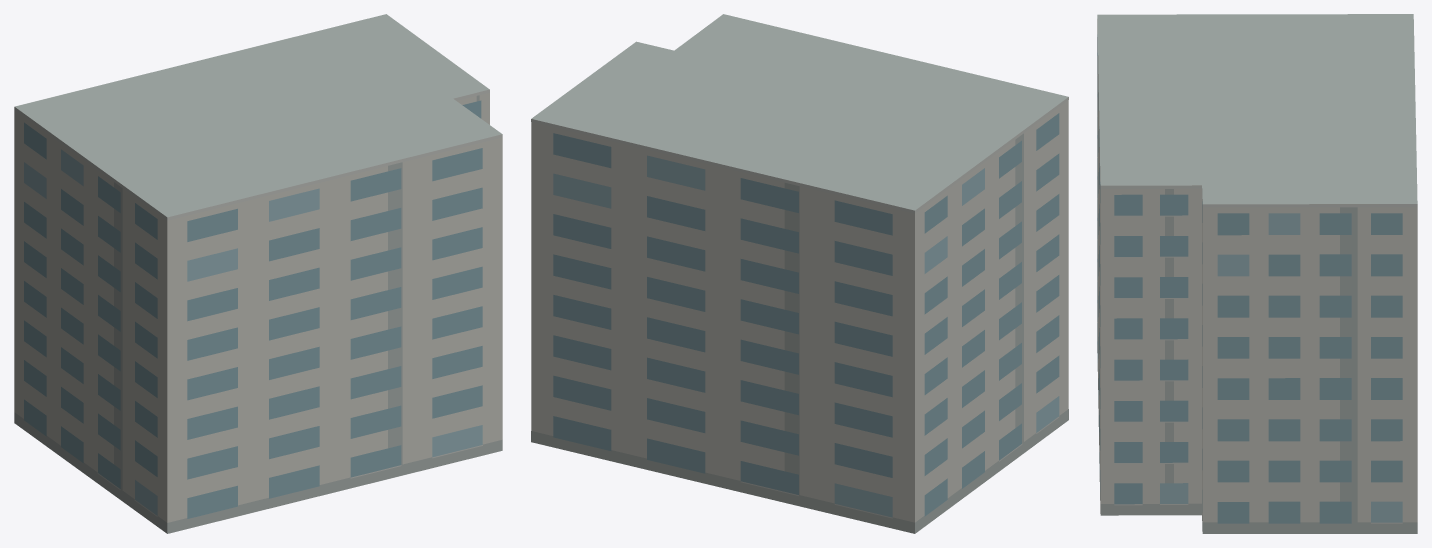
File: survey-upis-32586934.glb
The picture shows the model from 3 angles, left to right: view 1: azimuth 30°, elevation 25°; view 2: azimuth 150°, elevation 25°; view 3: azimuth 270°, elevation 25°; orthographic projection. The views are drawn at different scales.
Visible parts, largest first — view 1: survey-upis-32586934.tmp; view 2: survey-upis-32586934.tmp; view 3: survey-upis-32586934.tmp.
Part boxes in pixels (x1,y1,x2,y2): survey-upis-32586934.tmp: (14, 14, 502, 533); survey-upis-32586934.tmp: (531, 14, 1068, 533); survey-upis-32586934.tmp: (1097, 14, 1417, 533).
Size of the model in its own units: 30.19 by 24.4 by 21.48.
